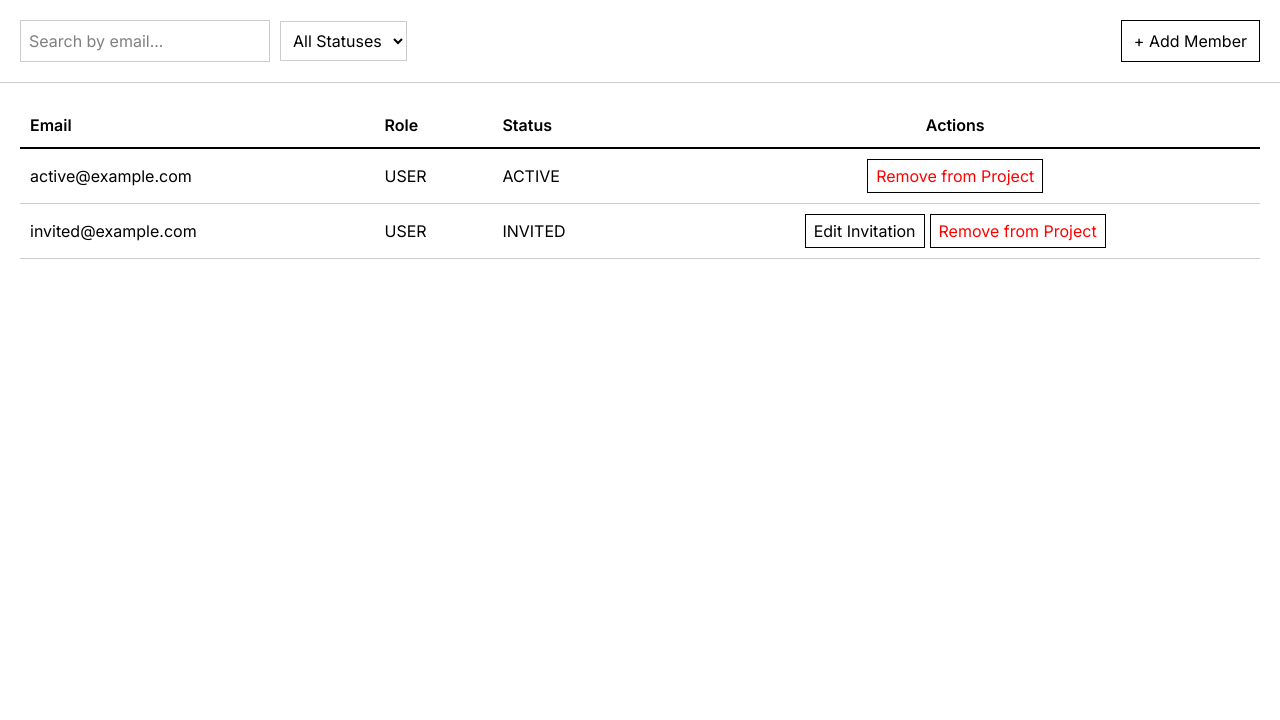
Test: MembersScreen › edits an invitation email via API-USR-005 then refetches
The image size is (1280, 720).
Expected: the text "invited@example.com" is shown, left=20, top=204, right=374, bottom=258
Step 1. Click the button "Edit Invitation" → (865,231), box left=805, top=214, right=925, bottom=248
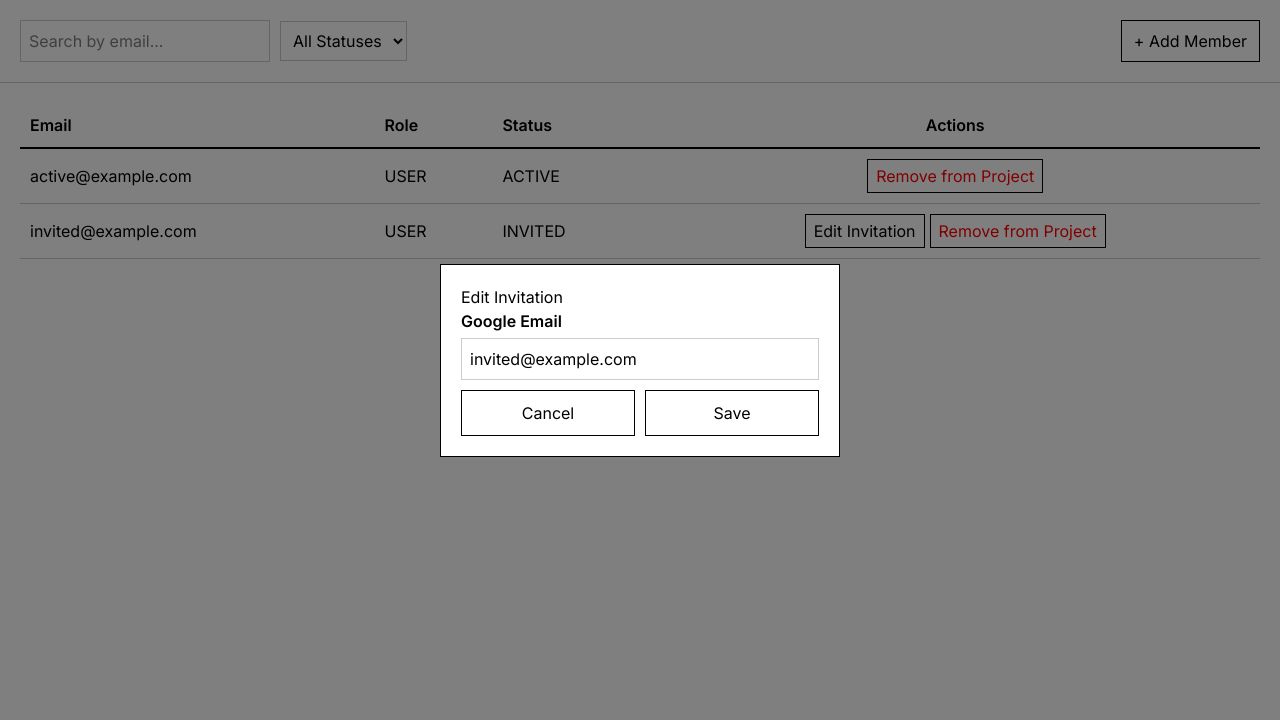
Step 2. Replace the text in the field showing "invited@example.com" with "new@example.com" → (640,358), box left=461, top=338, right=819, bottom=380
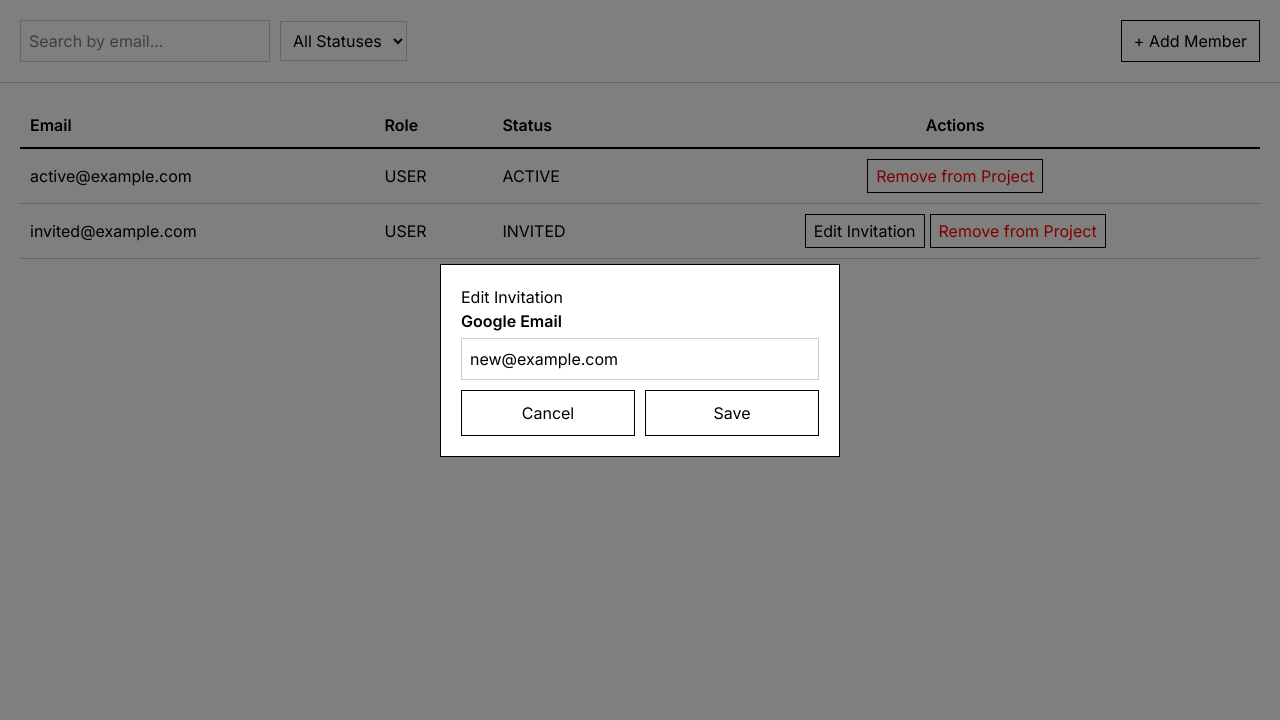
Step 3. Click the button "Save" → (732,412), box left=645, top=390, right=819, bottom=436
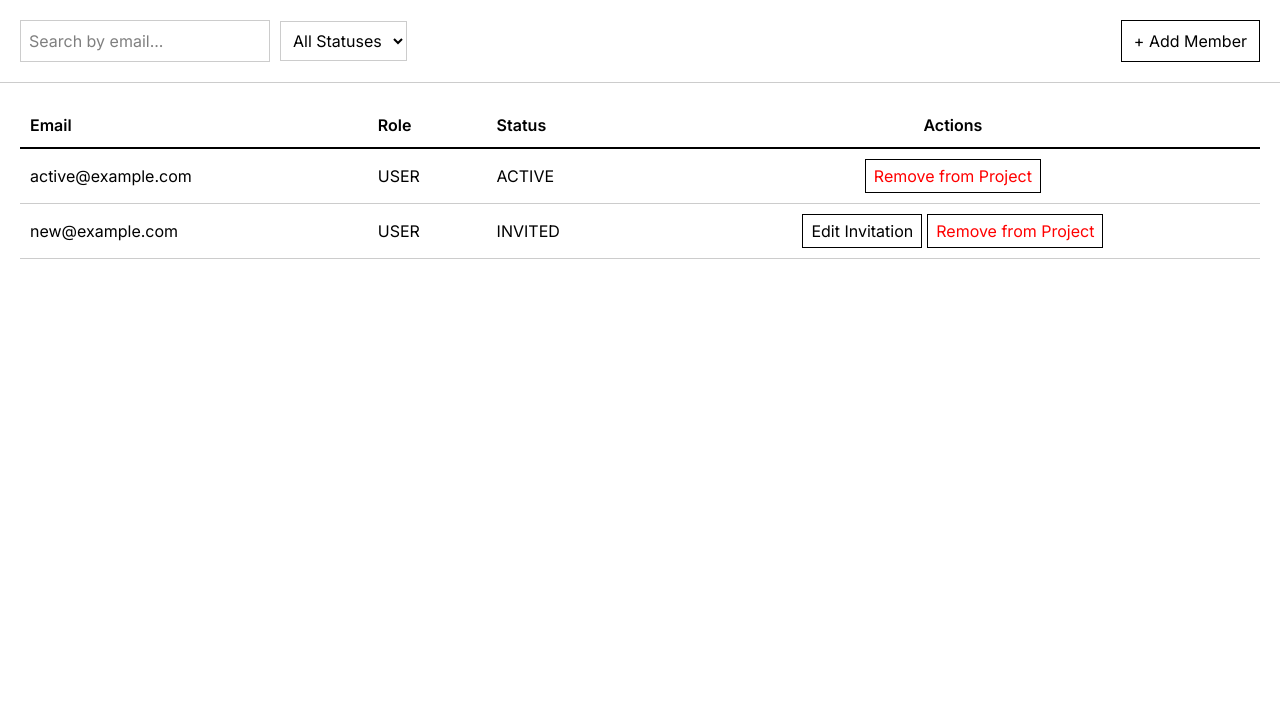
Result: the text "new@example.com" is shown at left=20, top=204, right=368, bottom=258
